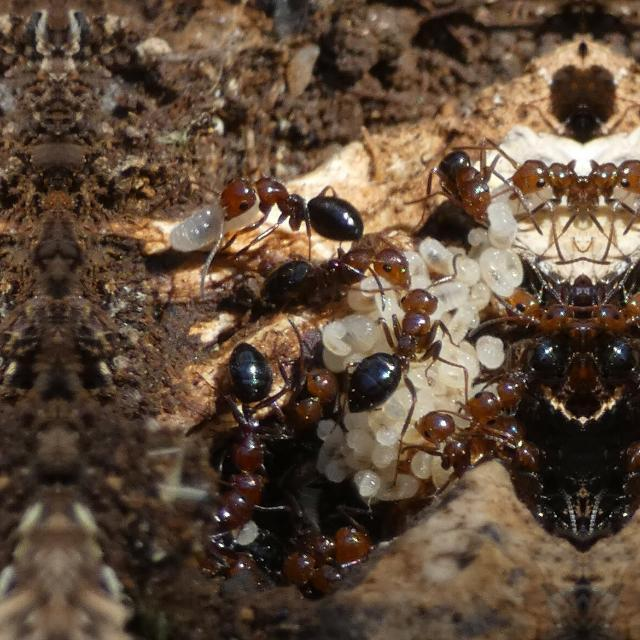Camponotus: (192, 330, 286, 572), (207, 152, 365, 250), (257, 232, 421, 320), (345, 284, 449, 422), (259, 358, 353, 488), (494, 402, 582, 530), (255, 500, 383, 586), (470, 328, 572, 422), (408, 402, 492, 501), (502, 145, 580, 241), (582, 402, 640, 530), (431, 134, 502, 228), (494, 270, 580, 342), (584, 145, 640, 241), (592, 328, 640, 420), (584, 270, 640, 340)
